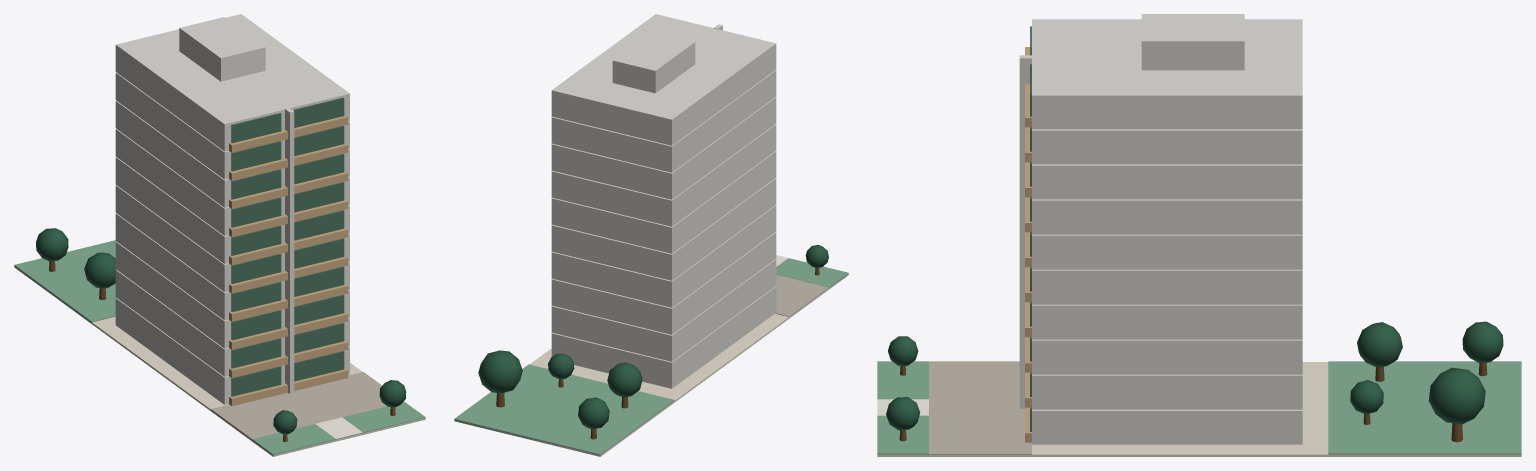
File: monterrey-norte.glb
3 views of the same model, side by side, from view 1: azimuth 30°, elevation 25°; view 2: azimuth 150°, elevation 25°; view 3: azimuth 270°, elevation 25° (orthographic). The views are drawn at different scales.
Size of the model in its own units: 0.17 by 0.328 by 0.5.
